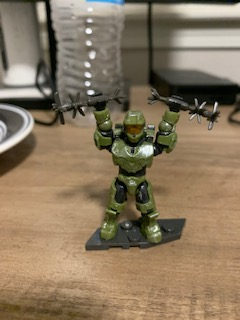chief: (87, 93, 182, 244)
spartan: (85, 91, 180, 242)
up: (90, 92, 181, 175)
